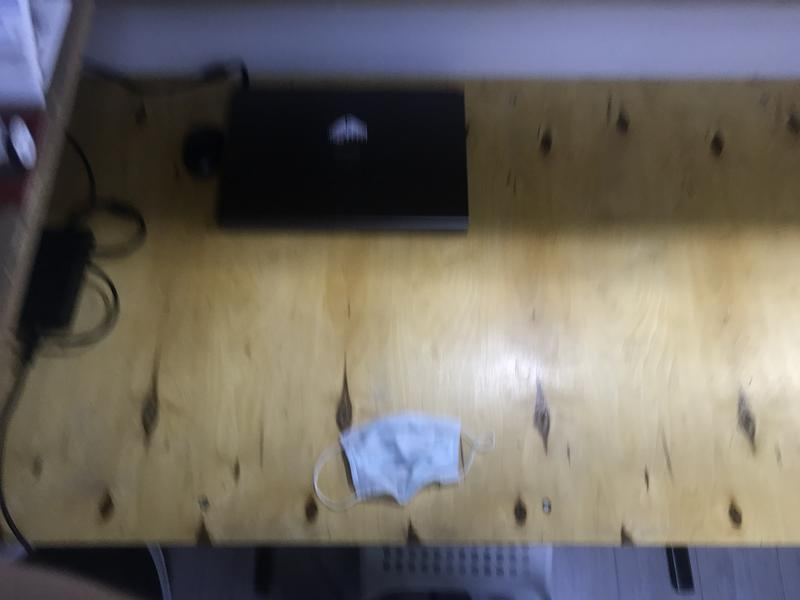medical_mask: (313, 414, 494, 511)
